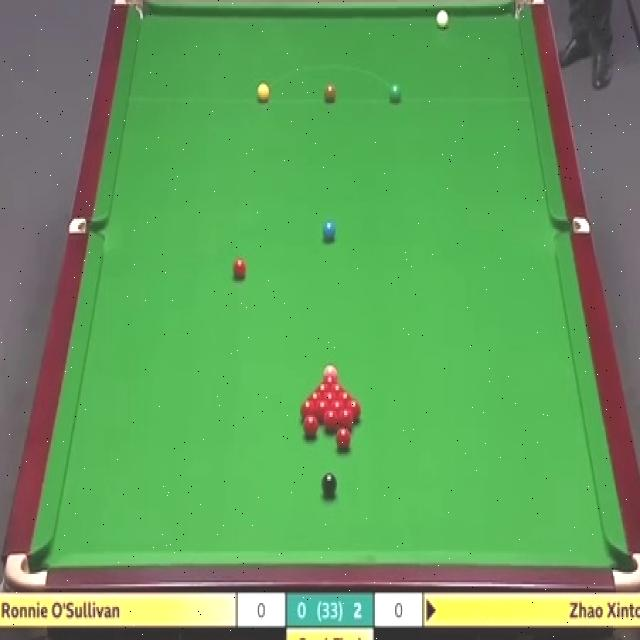black-ball: (321, 472, 338, 500)
blue-ball: (321, 220, 337, 243)
brown-ball: (324, 82, 336, 103)
green-ball: (388, 82, 401, 103)
pink-ball: (323, 362, 339, 378)
red-ball: (231, 256, 249, 285), (336, 429, 354, 452), (337, 409, 354, 431), (303, 414, 318, 436), (323, 409, 338, 431), (300, 399, 317, 416), (331, 400, 345, 420), (345, 401, 362, 417), (316, 400, 330, 419), (307, 391, 323, 401), (338, 392, 354, 402), (322, 392, 339, 401), (315, 383, 330, 392), (331, 383, 346, 392), (322, 375, 338, 383)
white-ball: (434, 8, 450, 31)
yellow-ball: (257, 83, 270, 103)
